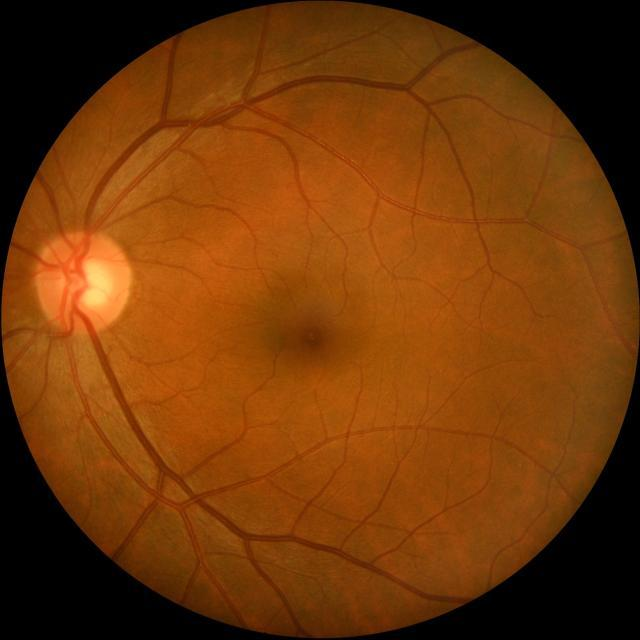OC: (64, 258, 110, 308)
OD: (34, 230, 131, 333)
